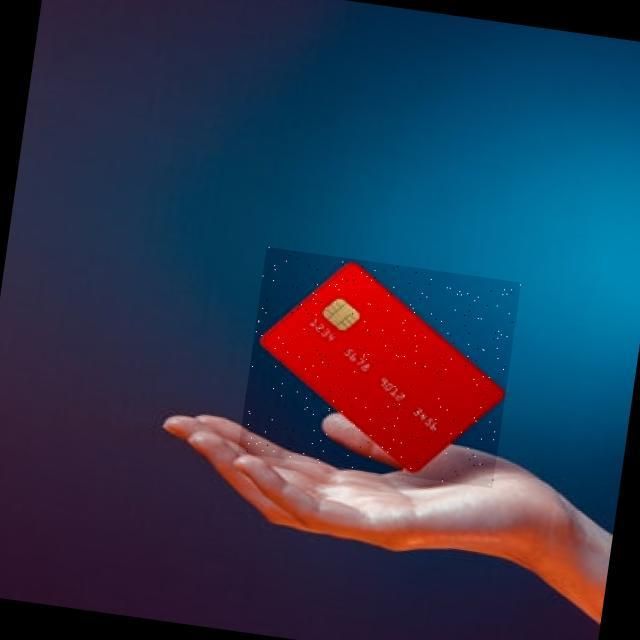payment_card: (257, 261, 508, 475)
